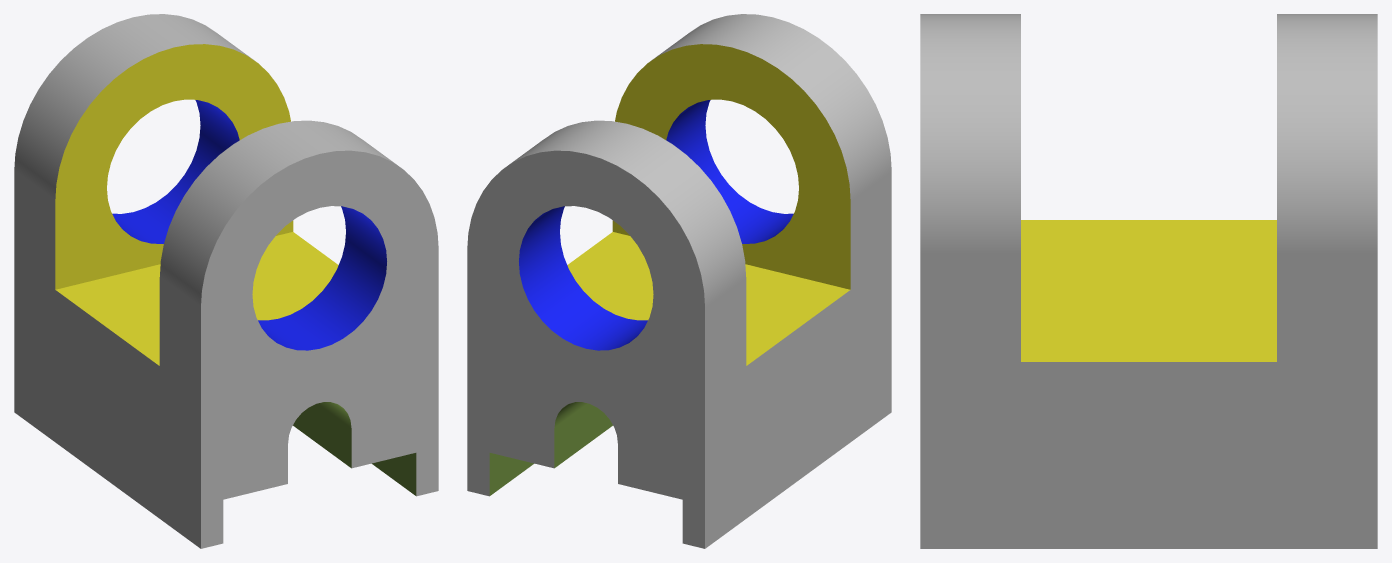
The picture shows the model from 3 angles, left to right: view 1: azimuth 30°, elevation 25°; view 2: azimuth 150°, elevation 25°; view 3: azimuth 270°, elevation 25°; orthographic projection. The views are drawn at different scales.
Visible parts, largest first — view 1: Solid1; view 2: Solid1; view 3: Solid1.
Part boxes in pixels (bbox=[...]): Solid1: bbox=[14, 14, 438, 548]; Solid1: bbox=[467, 14, 891, 548]; Solid1: bbox=[920, 14, 1377, 548].
Bounding box in the file's own units: 0.0618 × 0.0909 × 0.084.
